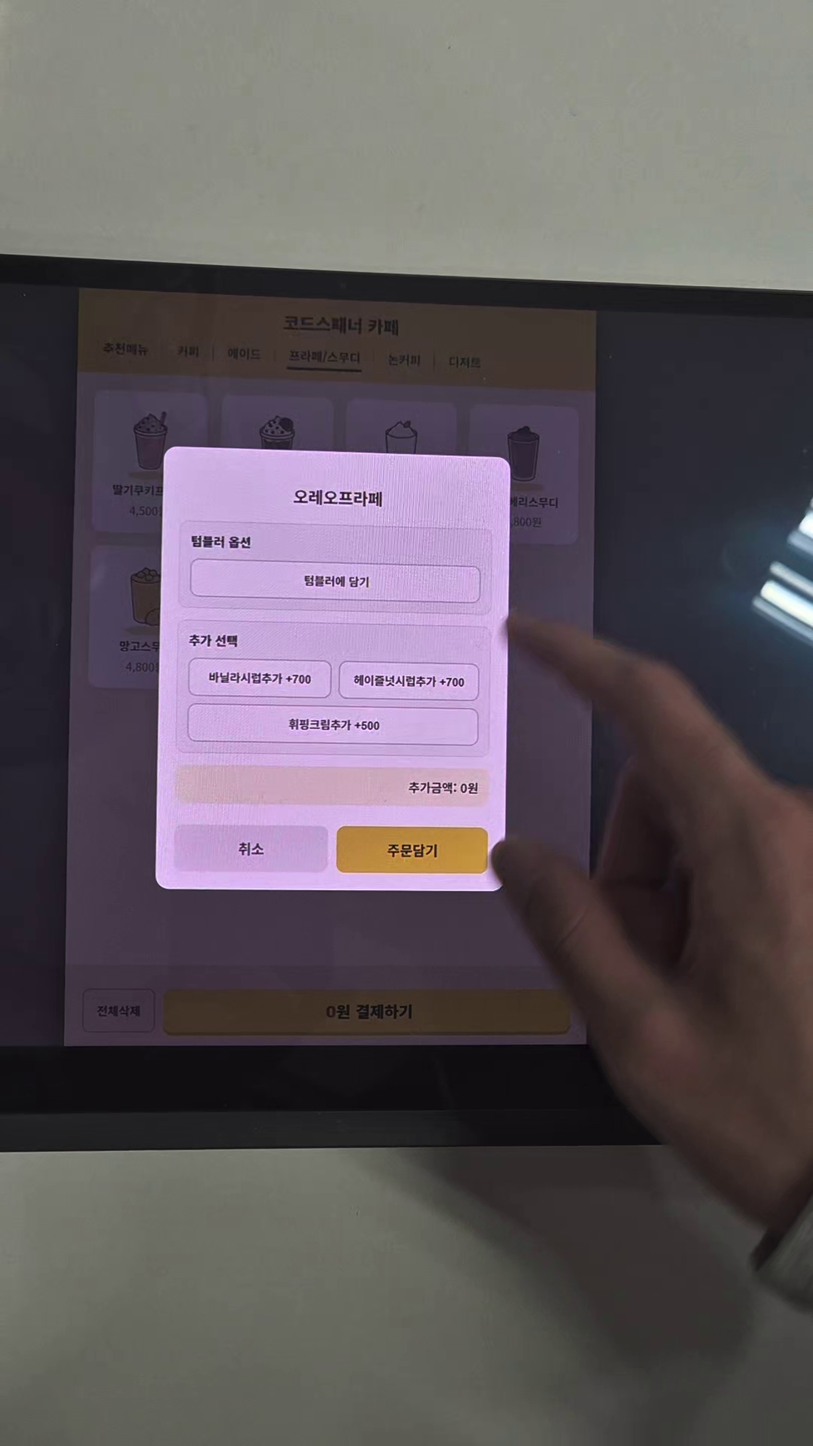action_button: (174, 824, 328, 873), (336, 827, 488, 874)
option_button: (191, 559, 481, 604), (188, 704, 478, 745), (188, 659, 332, 697), (339, 662, 480, 700)
popup_modal: (156, 447, 512, 892)
